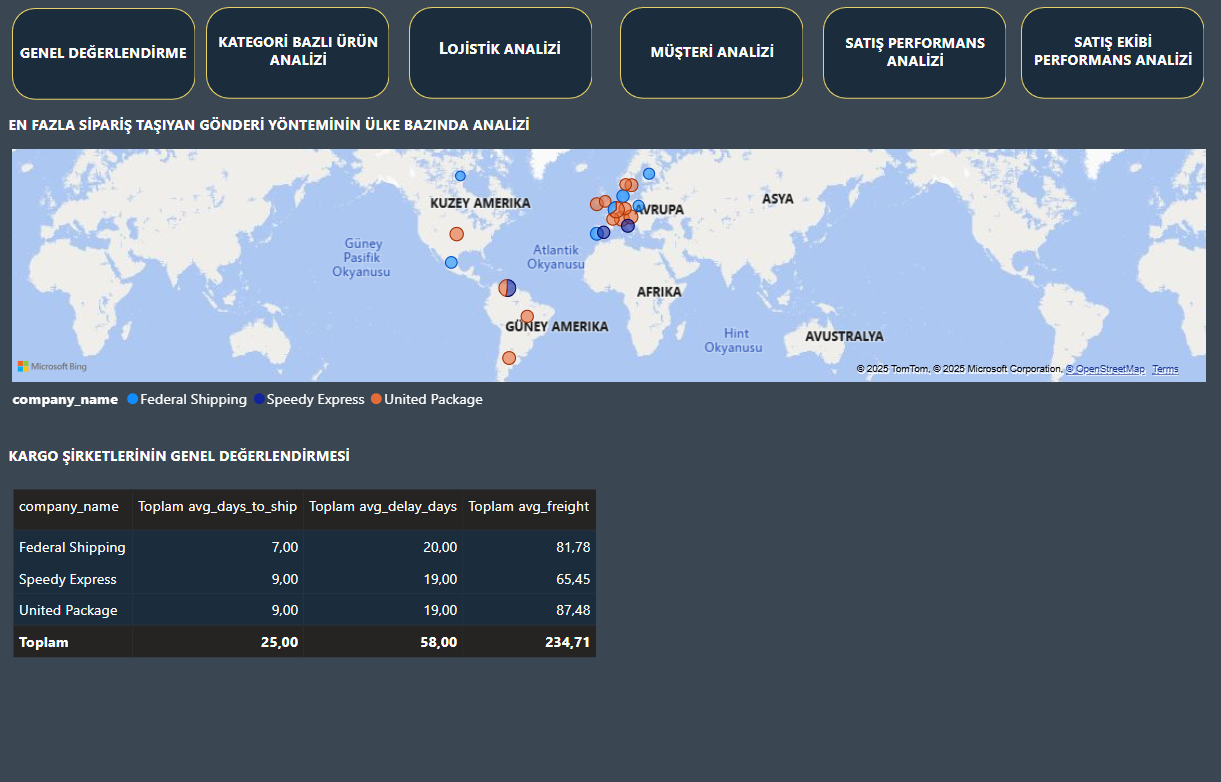

Layout of this report page (visuals, bound fields, positions):
{"tool":"powerbi","page":{"name":"lojistik","canvas":[1150,750],"ordinal":2},"visuals":[{"type":"shape","box":[384.6,17.1,169.5,84.7],"z":0},{"type":"shape","box":[578.8,17.1,169.5,84.7],"z":1000},{"type":"shape","box":[766.3,17.1,169.5,84.7],"z":2000},{"type":"shape","box":[949.1,17.1,169.5,84.7],"z":3000},{"type":"shape","box":[197.1,17.1,169.5,84.7],"z":4000},{"type":"textbox","box":[9.1,111.5,554.2,32.4],"z":5000},{"type":"textbox","box":[197.1,35.2,170.4,50.5],"z":6000},{"type":"textbox","box":[9.2,417.3,554.6,32.6],"z":7000},{"type":"textbox","box":[383.7,39,169.5,32.4],"z":8000},{"type":"map","fields":{"Size":["Sum(lojistik_1.avg_days_to_ship)"],"Series":["lojistik_1.company_name"],"Category":["lojistik_1.country"]},"box":[13.2,144.5,1112.3,254.4],"z":9000},{"type":"textbox","box":[578.8,44.7,170.4,26.7],"z":10000},{"type":"tableEx","fields":{"Values":["lojistik_2.company_name","Sum(lojistik_2.avg_days_to_ship)","Sum(lojistik_2.avg_delay_days)","Sum(lojistik_2.avg_freight)"]},"box":[13.2,458,550.6,174],"z":11000},{"type":"textbox","box":[766.3,36.2,170.4,49.5],"z":12000},{"type":"textbox","box":[949.1,35.2,170.4,50.5],"z":13000},{"type":"shape","box":[17.1,18.1,169.5,84.7],"z":14000},{"type":"textbox","box":[18,45.6,168.5,46.6],"z":15000}]}

Visuals, with their boxes in screenshot pixels (x1, y1, x2, y2), scaled from the page's 1150x750 canvas onto the 1221x782 screenshot:
shape: (408, 18, 588, 106)
shape: (615, 18, 794, 106)
shape: (814, 18, 994, 106)
shape: (1008, 18, 1188, 106)
shape: (209, 18, 389, 106)
textbox: (10, 116, 598, 150)
textbox: (209, 37, 390, 89)
textbox: (10, 435, 599, 469)
textbox: (407, 41, 587, 74)
map - Sum(lojistik_1.avg_days_to_ship) x lojistik_1.company_name: (14, 151, 1195, 416)
textbox: (615, 47, 795, 74)
tableEx - lojistik_2.company_name x Sum(lojistik_2.avg_days_to_ship): (14, 478, 599, 659)
textbox: (814, 38, 995, 89)
textbox: (1008, 37, 1189, 89)
shape: (18, 19, 198, 107)
textbox: (19, 48, 198, 96)
